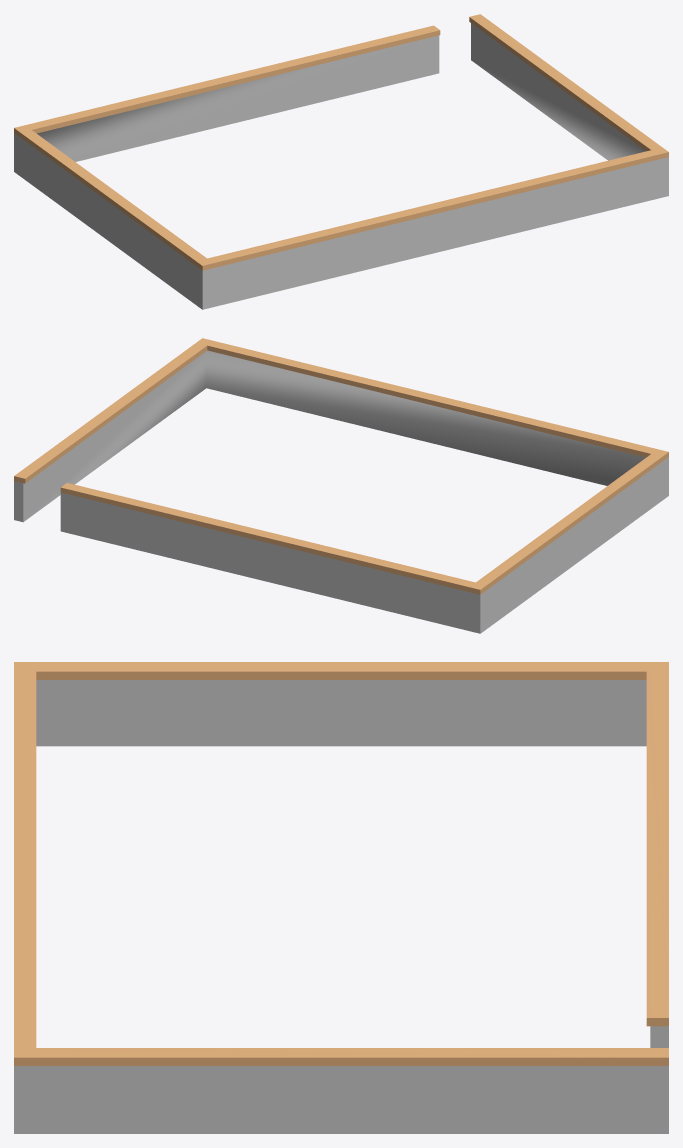
File: School_Fence.fbx
3 renders of one model, top to bottom at view 1: azimuth 30°, elevation 25°; view 2: azimuth 150°, elevation 25°; view 3: azimuth 270°, elevation 25°, orthographic. The views are drawn at different scales.
Parts seen in each view (by area): view 1: Cube.001; view 2: Cube.001; view 3: Cube.001.
Boxes of the visible parts, x1,y1,x2,y2 form: Cube.001: (14,14,668,309); Cube.001: (14,338,668,633); Cube.001: (14,662,668,1133).
Bounding box in the file's own units: 5000 × 450 × 3500.
